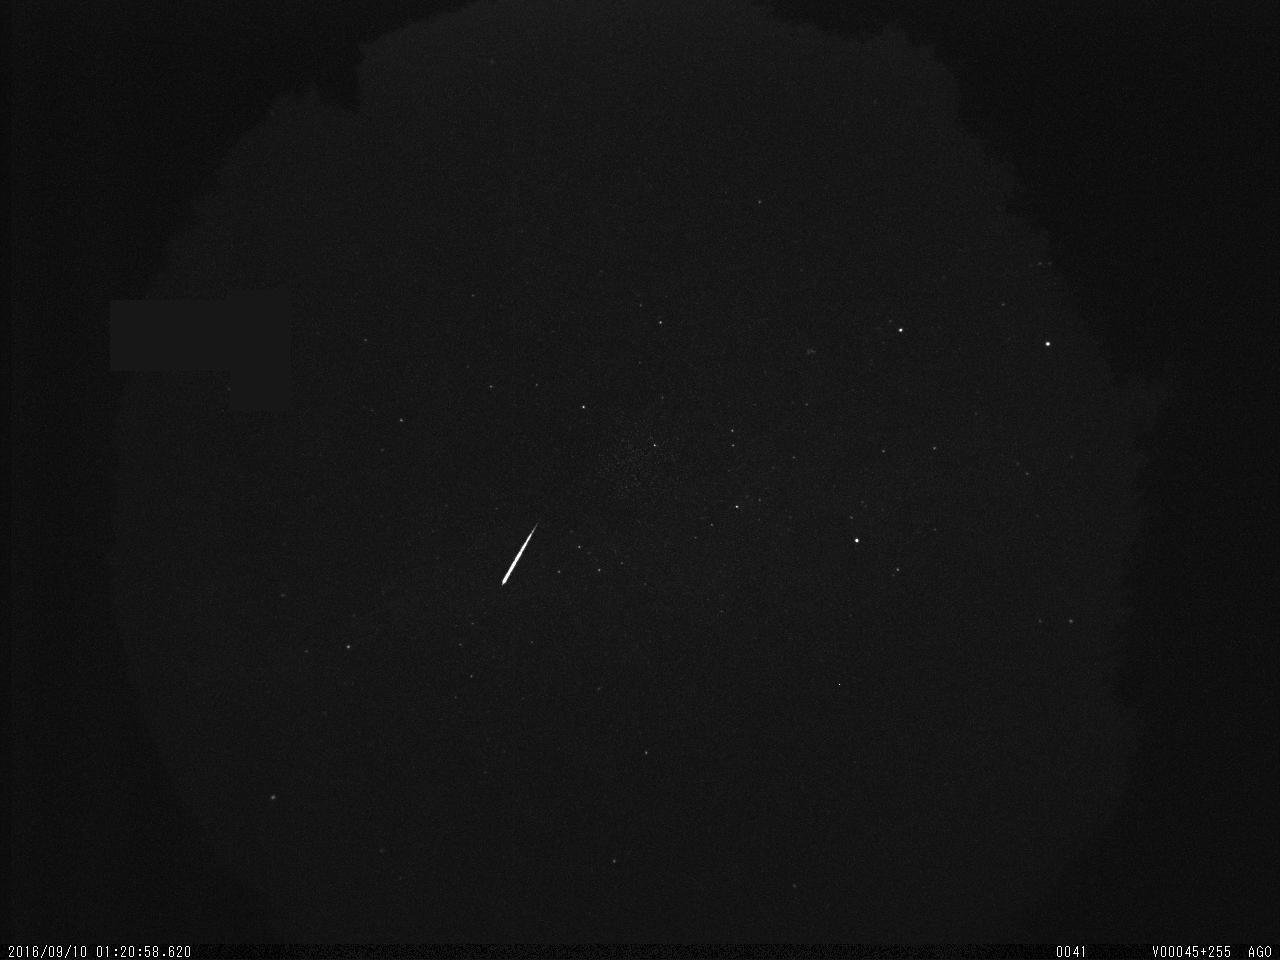meteor: (482, 504, 551, 598)
